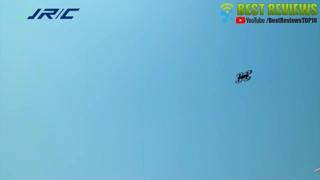UAV: (236, 70, 252, 84)
